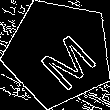M_NW: (24, 19, 93, 87)
